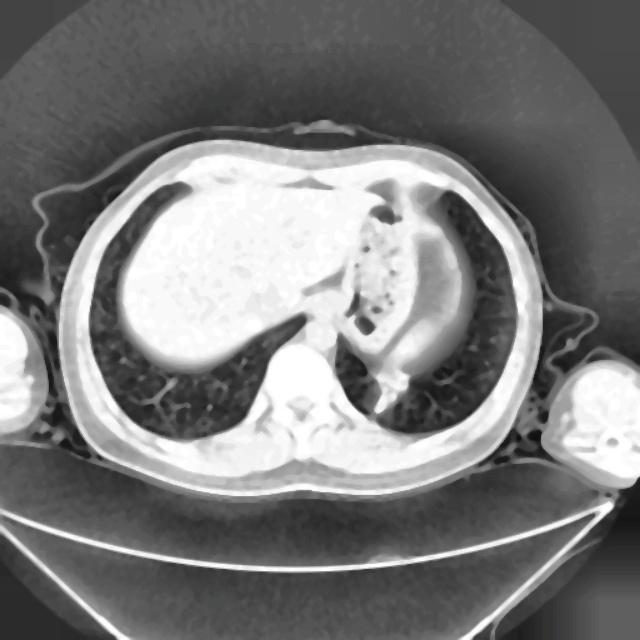covid: (53, 130, 546, 501)
